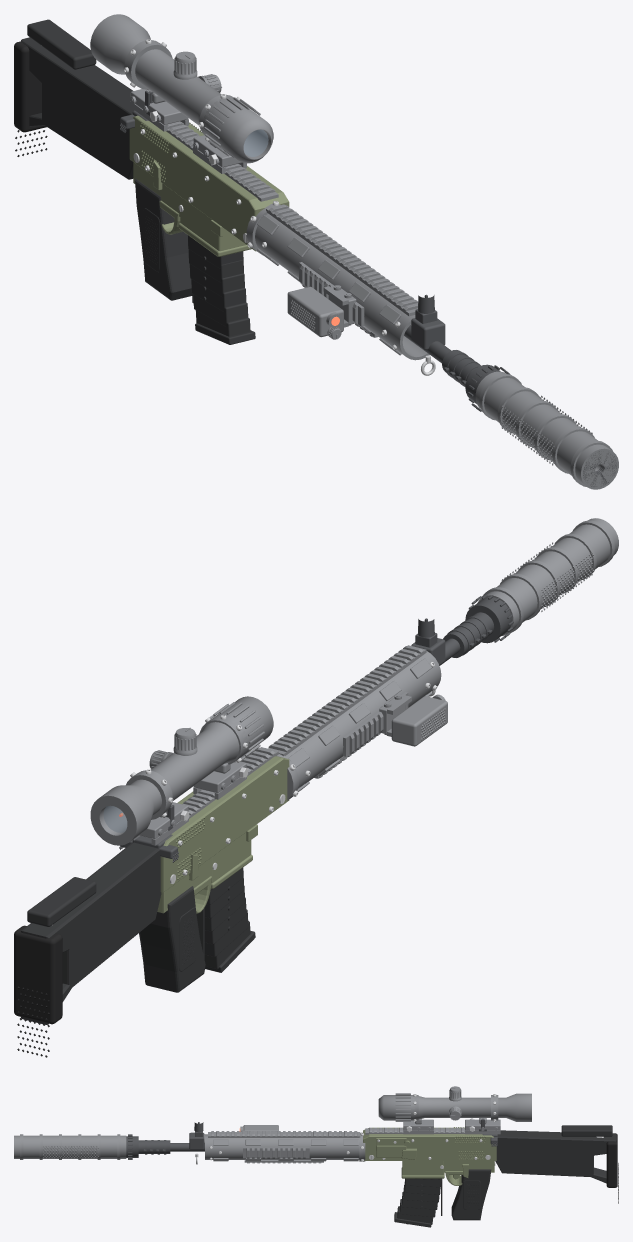
The picture shows the model from 3 angles, top to bottom: view 1: azimuth 30°, elevation 25°; view 2: azimuth 150°, elevation 25°; view 3: azimuth 270°, elevation 25°; orthographic projection. The views are drawn at different scales.
Visible parts, largest first — view 1: battle-rifle-marksman-loadout, magazine/polymerBlack; view 2: battle-rifle-marksman-loadout, magazine/polymerBlack; view 3: battle-rifle-marksman-loadout, magazine/polymerBlack.
Boxes of the visible parts, <box> form: battle-rifle-marksman-loadout: <box>14,14,618,489</box>; magazine/polymerBlack: <box>188,235,255,344</box>; battle-rifle-marksman-loadout: <box>14,518,618,1057</box>; magazine/polymerBlack: <box>196,867,255,972</box>; battle-rifle-marksman-loadout: <box>14,1086,618,1220</box>; magazine/polymerBlack: <box>394,1178,442,1227</box>.
Bounding box in the file's own units: 0.1178 × 0.2942 × 1.18.
